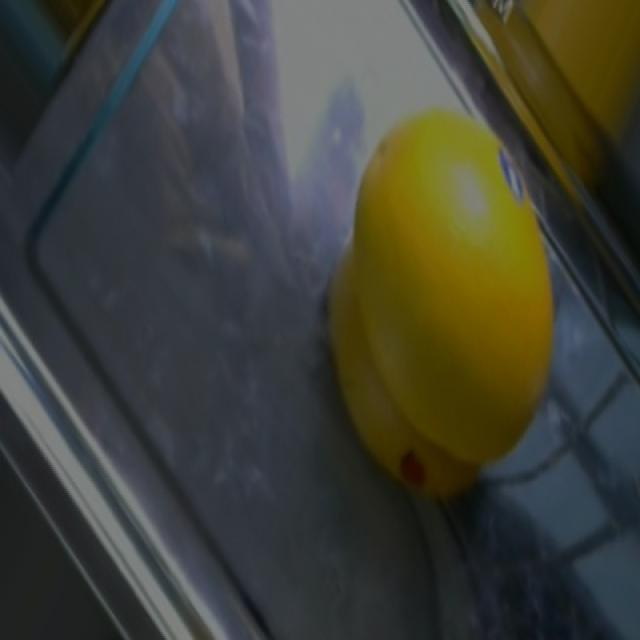Fruit: (0, 0, 163, 68)
